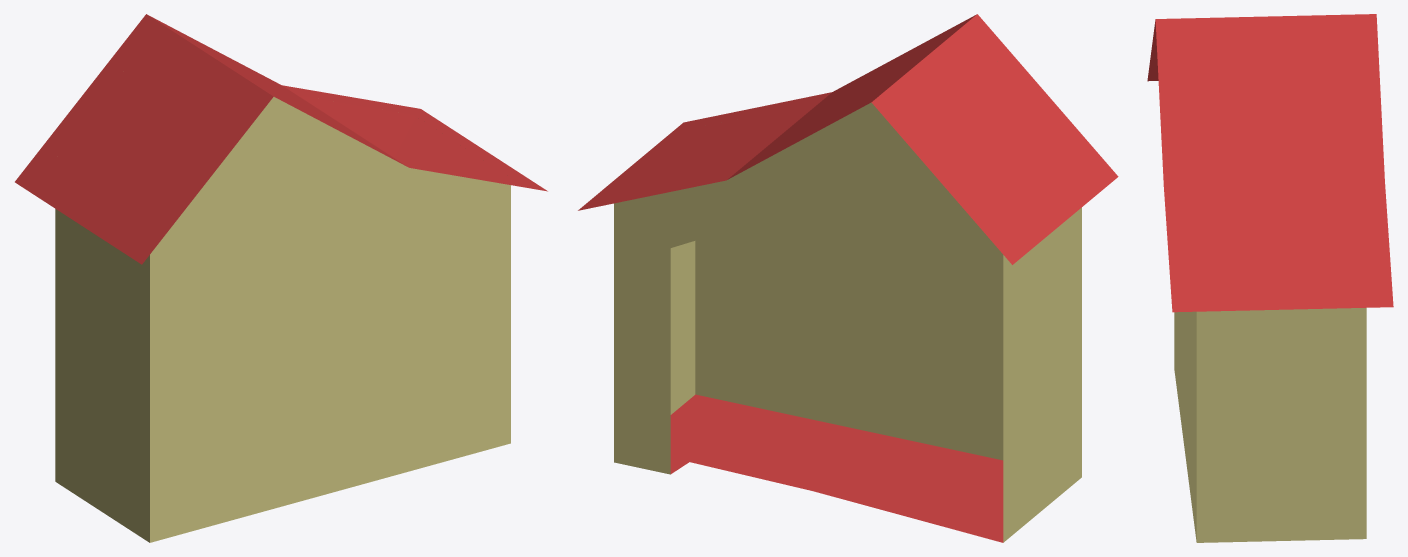
3 renders of one model, left to right at view 1: azimuth 30°, elevation 25°; view 2: azimuth 150°, elevation 25°; view 3: azimuth 270°, elevation 25°, orthographic. The views are drawn at different scales.
Bounding box in the file's own units: 13.77 × 7.19 × 13.01.
